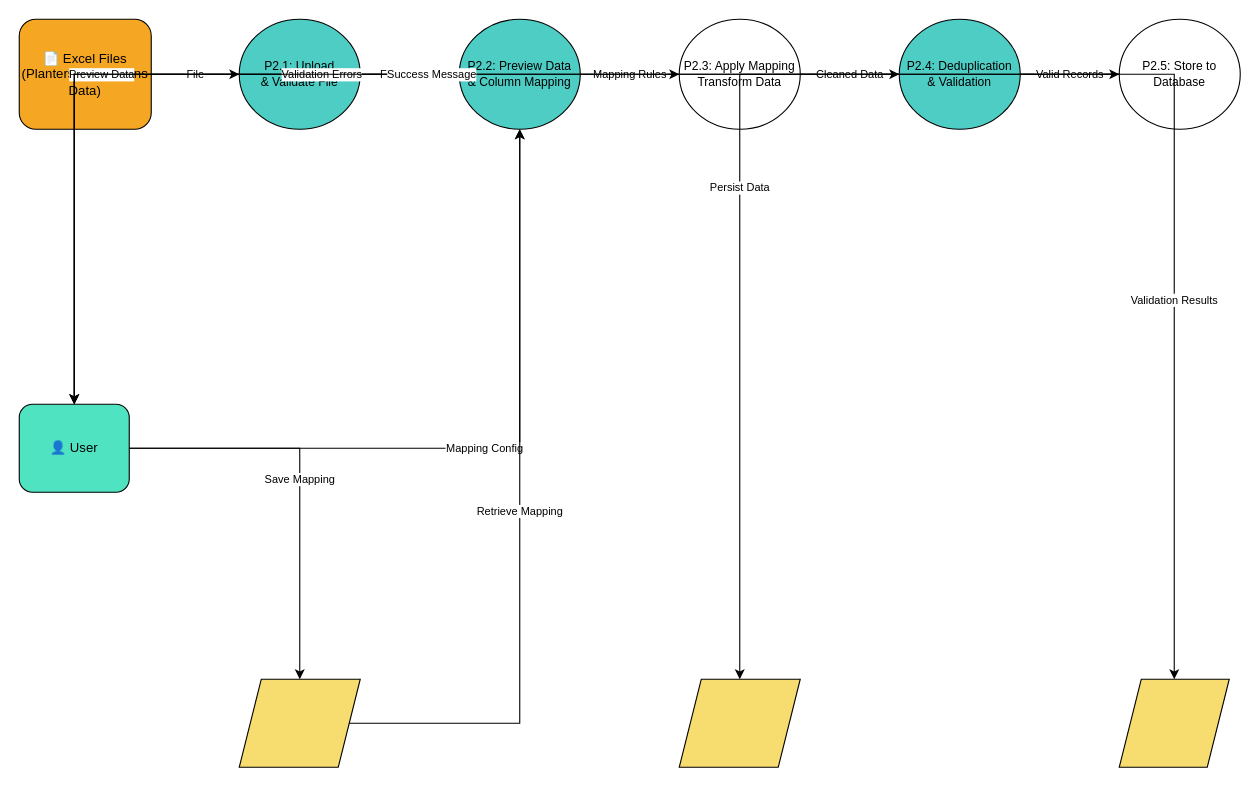
This 1260x787 diagram has some shape labels left out. The box of each missing label's shape, as (x1, y1, x2, y2) in pixels:
📊 Planter/Production Data D2.2: (678, 678, 800, 767)
📋 Import Logs D2.3: (1118, 678, 1229, 767)
🔄 Import Mappings D2.1: (238, 678, 360, 767)
